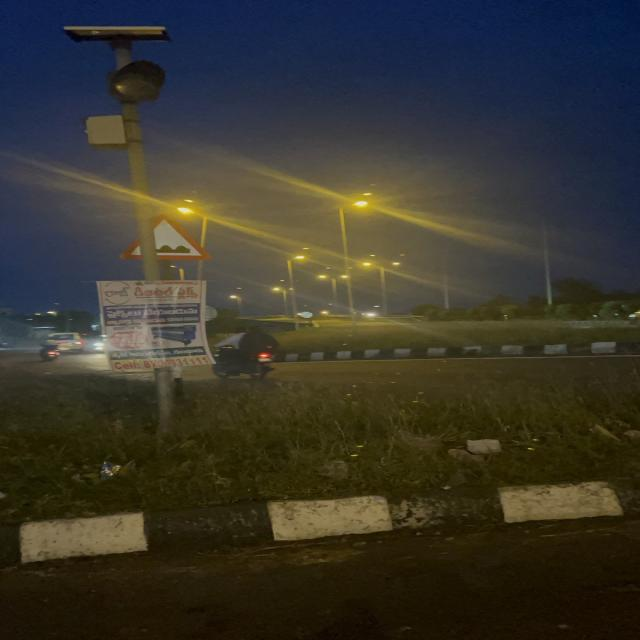Rumble_strip: (114, 217, 210, 265)
